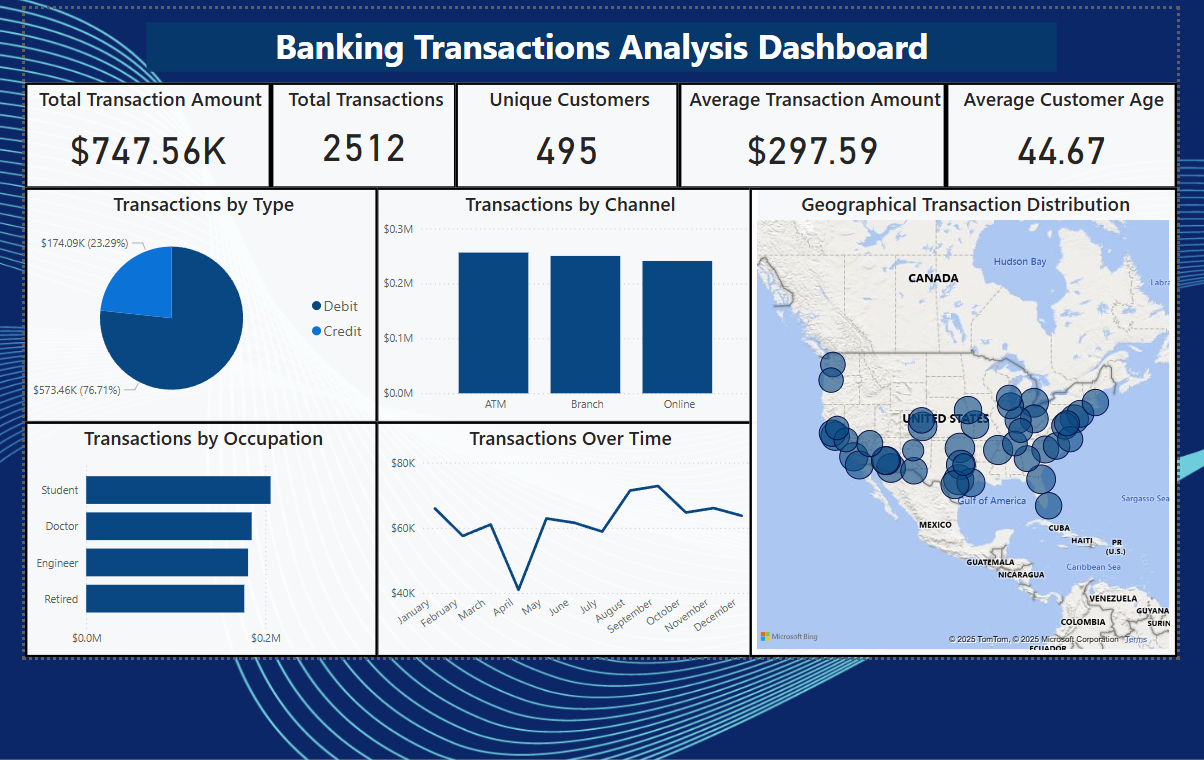

Layout of this report page (visuals, bound fields, positions):
{"tool":"powerbi","page":{"name":"Dashboard","canvas":[1280,720],"ordinal":0},"visuals":[{"type":"card","title":"Total Transaction Amount","fields":{"Values":["cleaned_bank_transactions_data.TotalTransactionAmount"]},"box":[0,81,273.3,118.1],"z":0},{"type":"card","title":"Average Transaction Amount","fields":{"Values":["cleaned_bank_transactions_data.AvgTransactionAmount"]},"box":[727.2,81,296.9,118.1],"z":1000},{"type":"card","title":"Total Transactions","fields":{"Values":["cleaned_bank_transactions_data.TotalTransactions"]},"box":[273.3,81,205.8,118.1],"z":2000},{"type":"card","title":"Unique Customers","fields":{"Values":["cleaned_bank_transactions_data.UniqueCustomers"]},"box":[479.2,81,248,118.1],"z":3000},{"type":"clusteredColumnChart","title":"Transactions by Channel","fields":{"Category":["cleaned_bank_transactions_data.Channel"],"Y":["cleaned_bank_transactions_data.TotalTransactionAmount"]},"box":[390,198.3,426.7,261.7],"z":4000},{"type":"pieChart","title":"Transactions by Type","fields":{"Category":["cleaned_bank_transactions_data.TransactionType"],"Y":["cleaned_bank_transactions_data.TotalTransactionAmount"]},"box":[0,198.3,391.7,261.7],"z":5000},{"type":"lineChart","title":"Transactions Over Time","fields":{"Y":["cleaned_bank_transactions_data.TotalTransactionAmount"],"Category":["cleaned_bank_transactions_data.TransactionDate.Variation.Date Hierarchy.Year","cleaned_bank_transactions_data.TransactionDate.Variation.Date Hierarchy.Quarter","cleaned_bank_transactions_data.TransactionDate.Variation.Date Hierarchy.Month"]},"box":[390,458.3,426.7,261.7],"z":6000},{"type":"clusteredBarChart","title":"Transactions by Occupation","fields":{"Y":["cleaned_bank_transactions_data.TotalTransactionAmount"],"Category":["cleaned_bank_transactions_data.CustomerOccupation"]},"box":[0,458.3,391.7,261.7],"z":7000},{"type":"card","title":"Average Customer Age","fields":{"Values":["cleaned_bank_transactions_data.AverageCustomerAge"]},"box":[1024.1,81,256.5,118.1],"z":8000},{"type":"map","title":"Geographical Transaction Distribution","fields":{"Category":["cleaned_bank_transactions_data.Location"],"Size":["cleaned_bank_transactions_data.TotalTransactionAmount"]},"box":[805,198.3,475,521.7],"z":9000},{"type":"textbox","box":[134.6,15.8,1011.3,54.4],"z":10000}]}

Visuals, with their boxes in screenshot pixels (x1, y1, x2, y2):
"Total Transaction Amount" card: [left=25, top=82, right=270, bottom=188]
"Average Transaction Amount" card: [left=676, top=82, right=941, bottom=188]
"Total Transactions" card: [left=270, top=82, right=454, bottom=188]
"Unique Customers" card: [left=454, top=82, right=676, bottom=188]
"Transactions by Channel" clusteredColumnChart: [left=374, top=187, right=756, bottom=421]
"Transactions by Type" pieChart: [left=25, top=187, right=376, bottom=421]
"Transactions Over Time" lineChart: [left=374, top=419, right=756, bottom=654]
"Transactions by Occupation" clusteredBarChart: [left=25, top=419, right=376, bottom=654]
"Average Customer Age" card: [left=941, top=82, right=1171, bottom=188]
"Geographical Transaction Distribution" map: [left=745, top=187, right=1170, bottom=654]
textbox: [left=146, top=24, right=1050, bottom=72]
